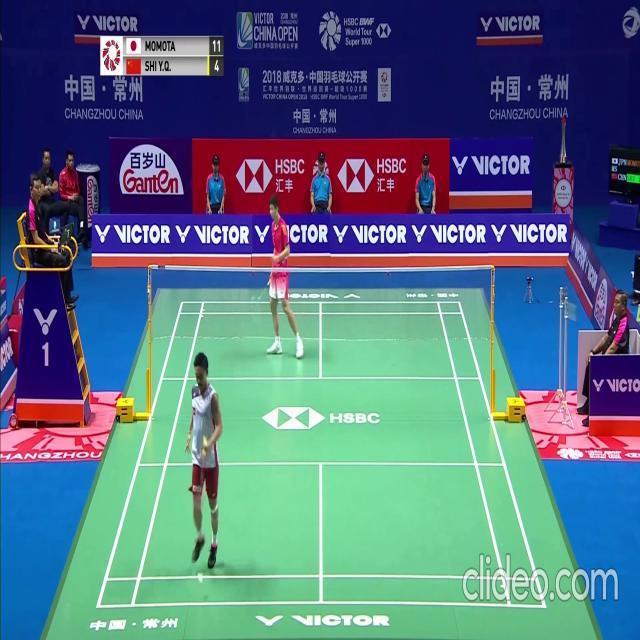Shuttlecock: (198, 575, 203, 583)
